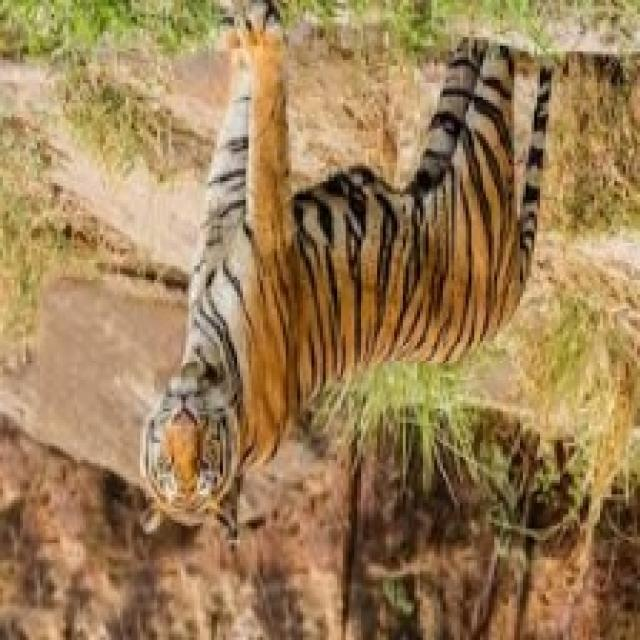bear: (87, 127, 595, 491)
